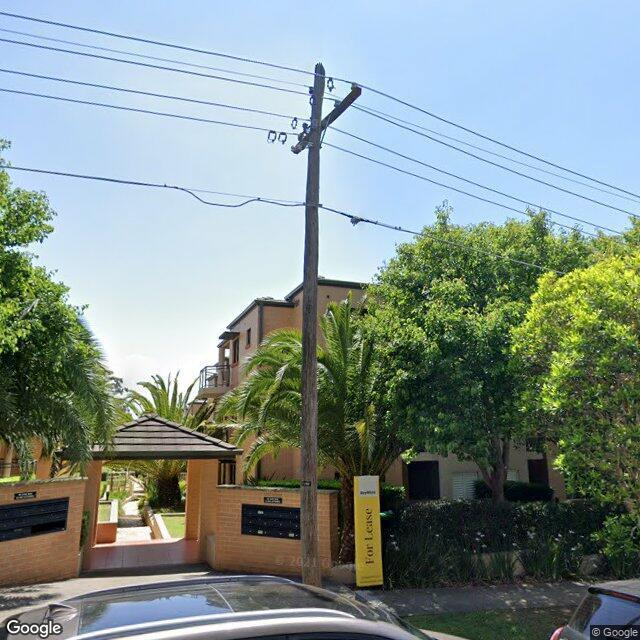crossarm: (292, 84, 363, 154)
timber-pole: (300, 62, 328, 585)
